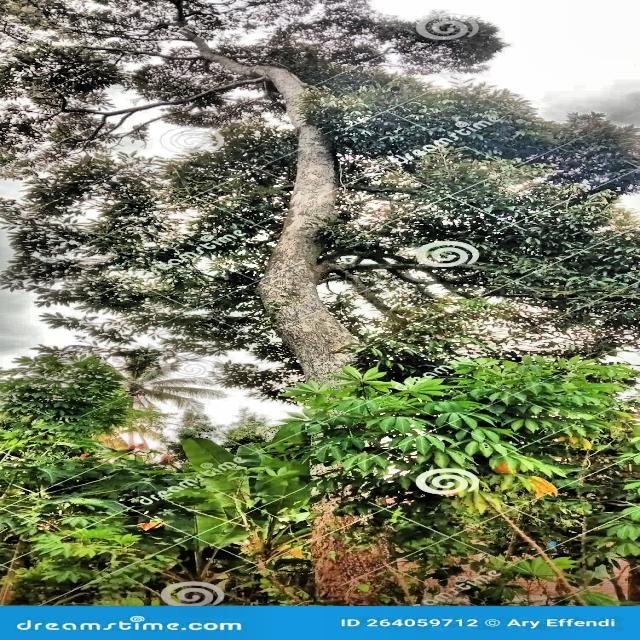arvore: (177, 46, 466, 596)
